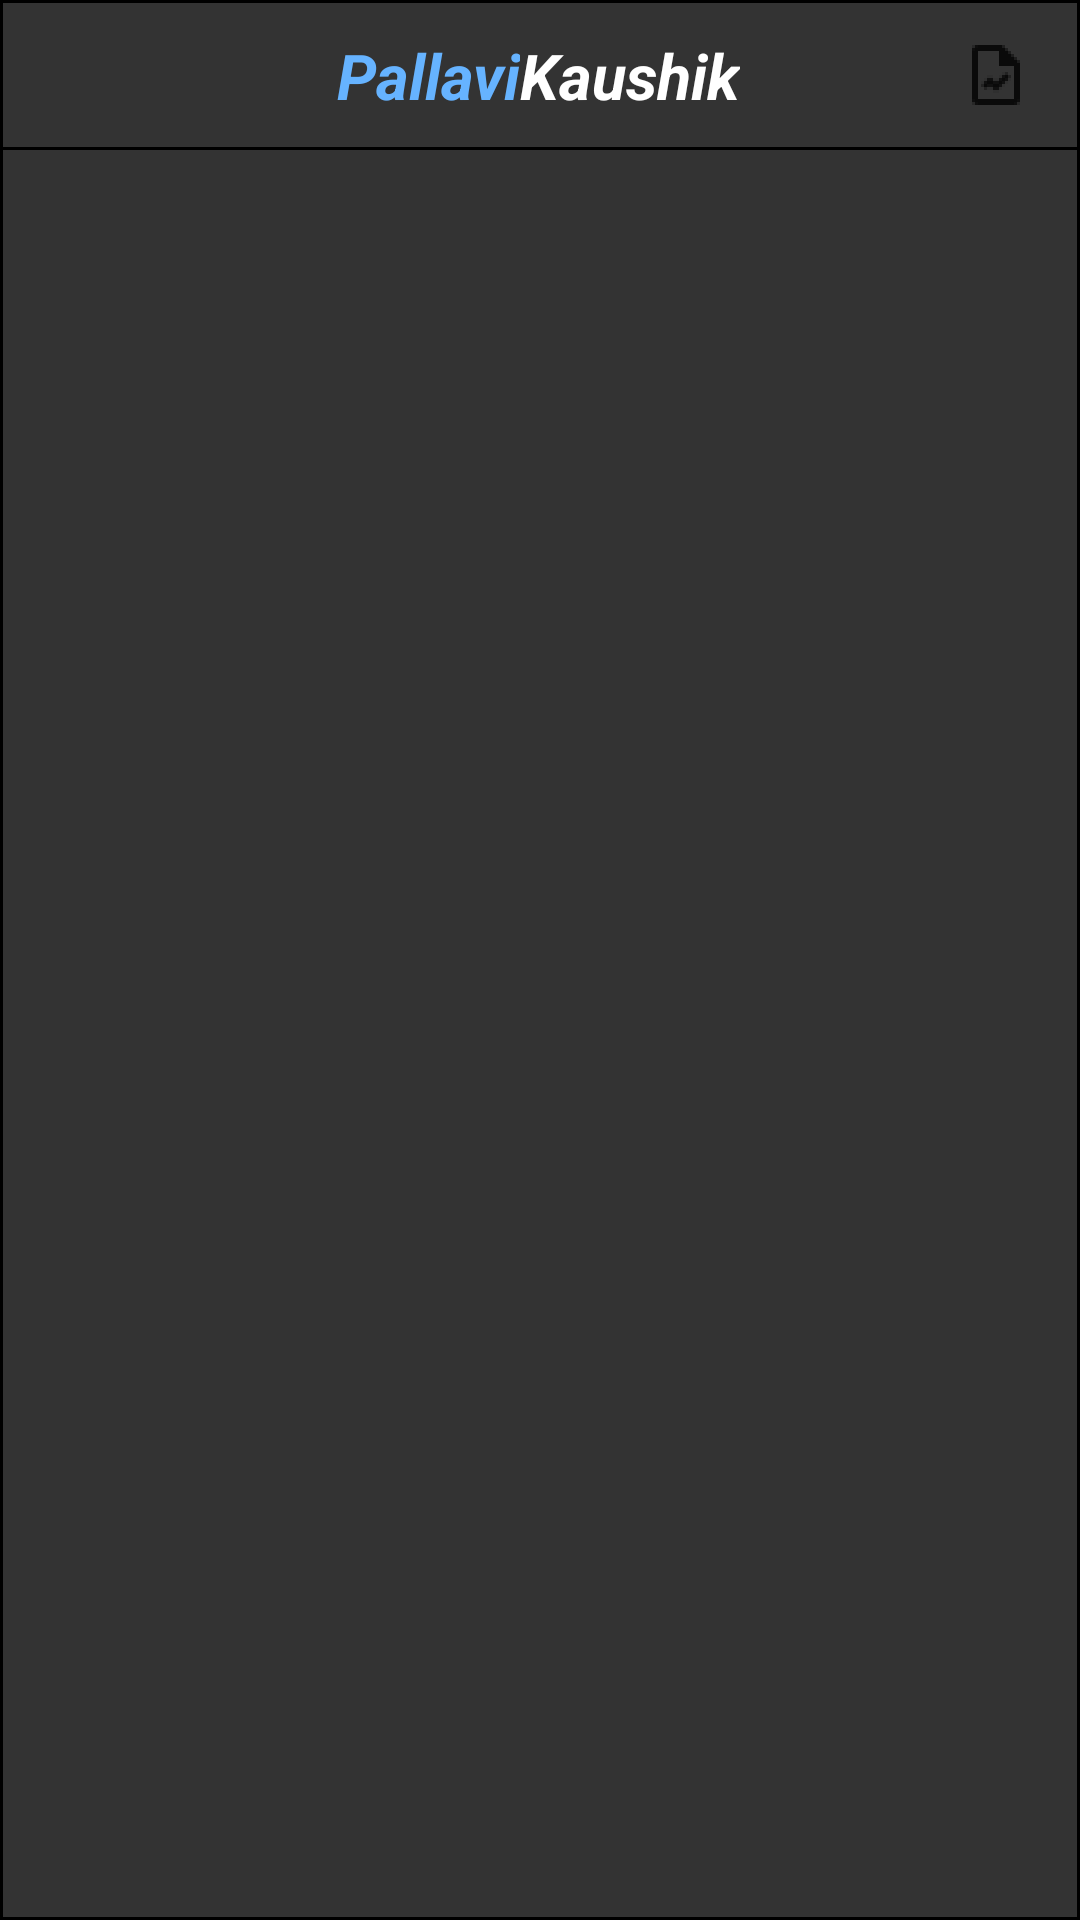

Screen size 1080*1920. Icon name, then its center in pixels as [x,y]:
Report: [996,75]
